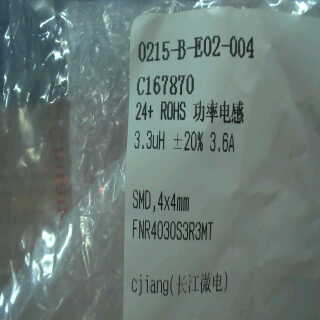3.3uH: (133, 122, 168, 154)
